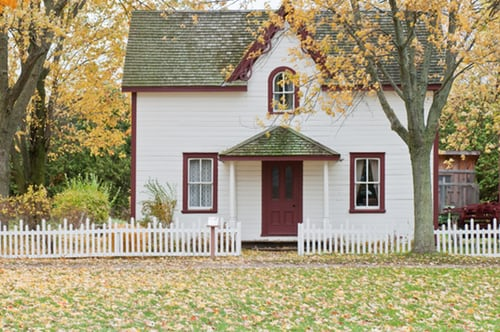house: (119, 4, 451, 238)
